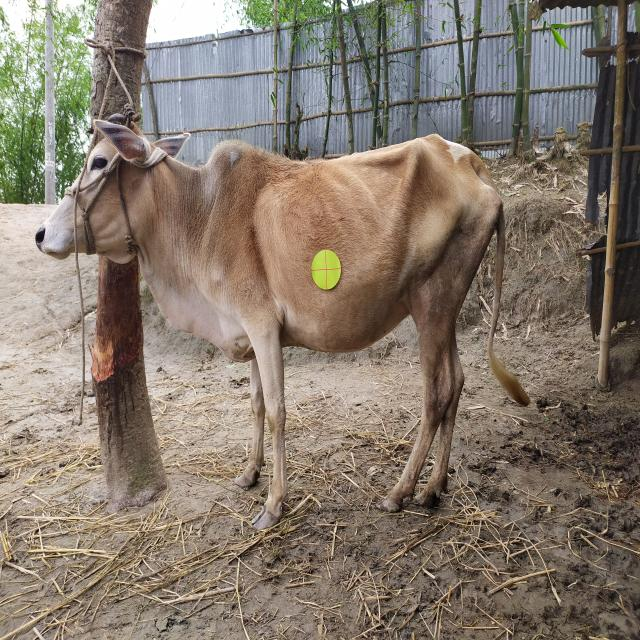badan_sapi: (215, 158, 492, 348)
sapi: (26, 110, 546, 540)
